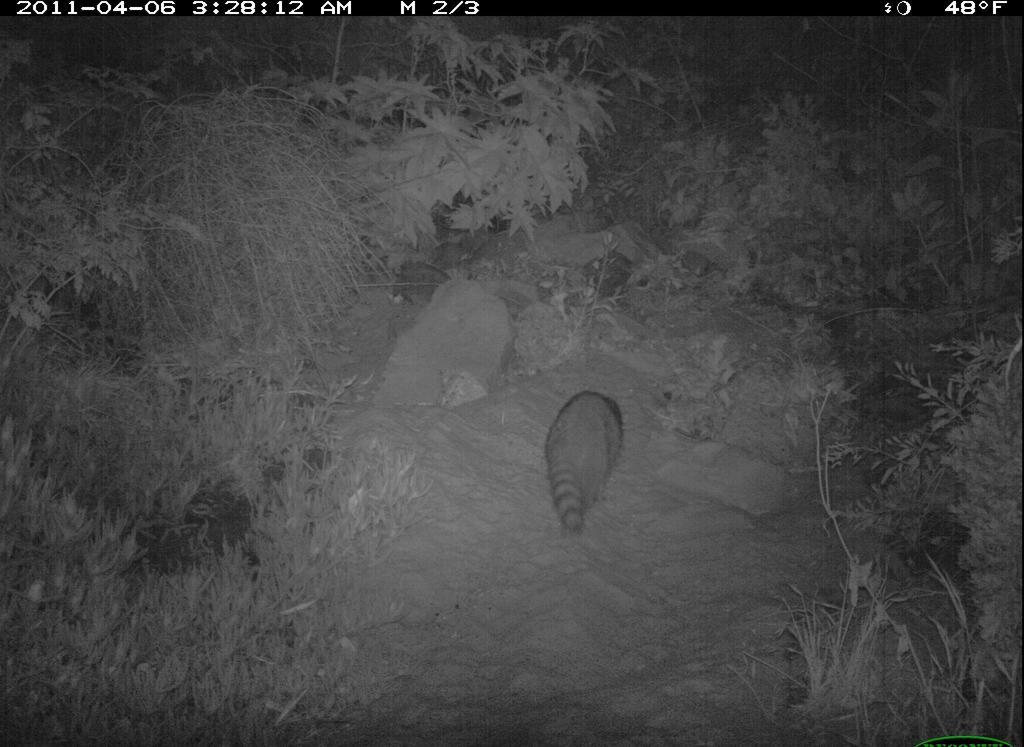raccoon: (539, 378, 637, 537)
